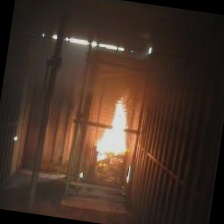fire: (94, 93, 141, 159)
